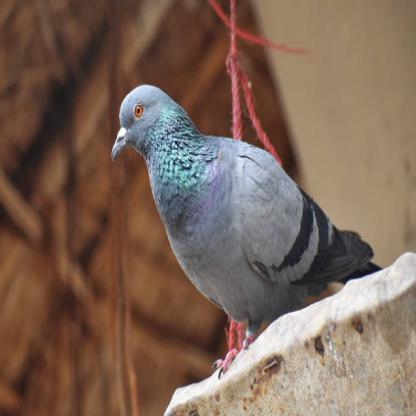Rock Pigeon: (108, 82, 347, 314)
